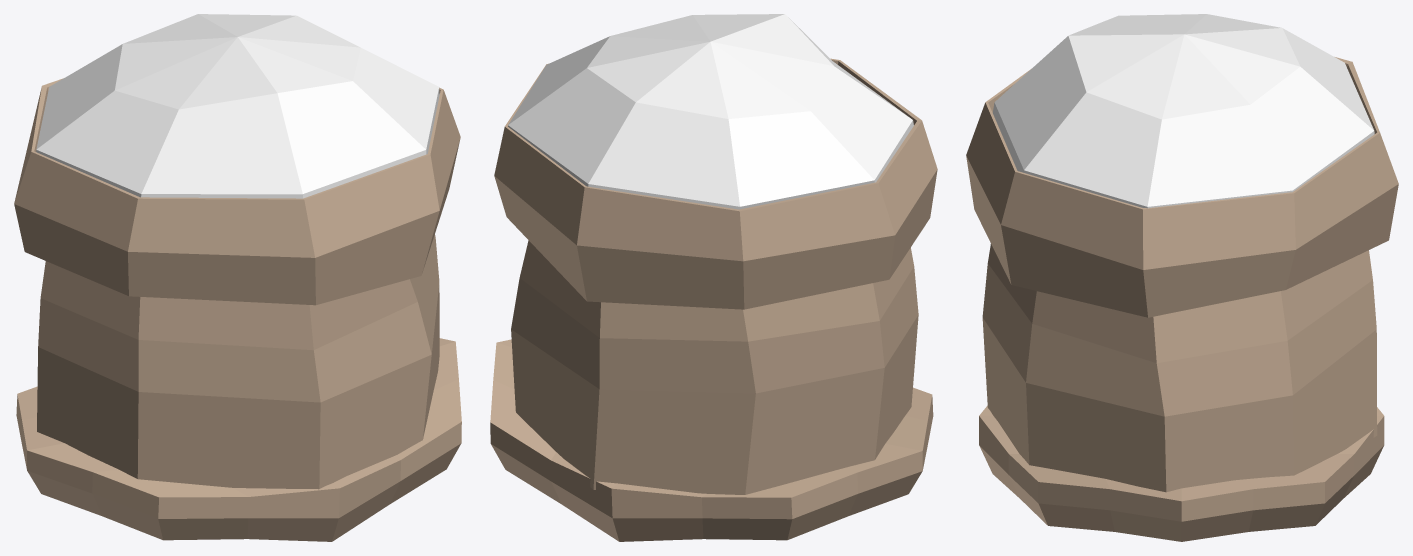
File: flour.glb
3 renders of one model, left to right at view 1: azimuth 30°, elevation 25°; view 2: azimuth 150°, elevation 25°; view 3: azimuth 270°, elevation 25°, orthographic.
Visible parts, largest first — view 1: Cylinder.001, Sphere; view 2: Cylinder.001, Sphere; view 3: Cylinder.001, Sphere.
Part boxes in pixels (left/top/right/bottom): Cylinder.001: left=14, top=78, right=461, bottom=541; Sphere: left=36, top=14, right=439, bottom=198; Cylinder.001: left=490, top=58, right=937, bottom=541; Sphere: left=508, top=14, right=913, bottom=209; Cylinder.001: left=966, top=57, right=1398, bottom=541; Sphere: left=993, top=14, right=1374, bottom=208.
Bounding box in the file's own units: 2.01 × 1.95 × 1.74.
